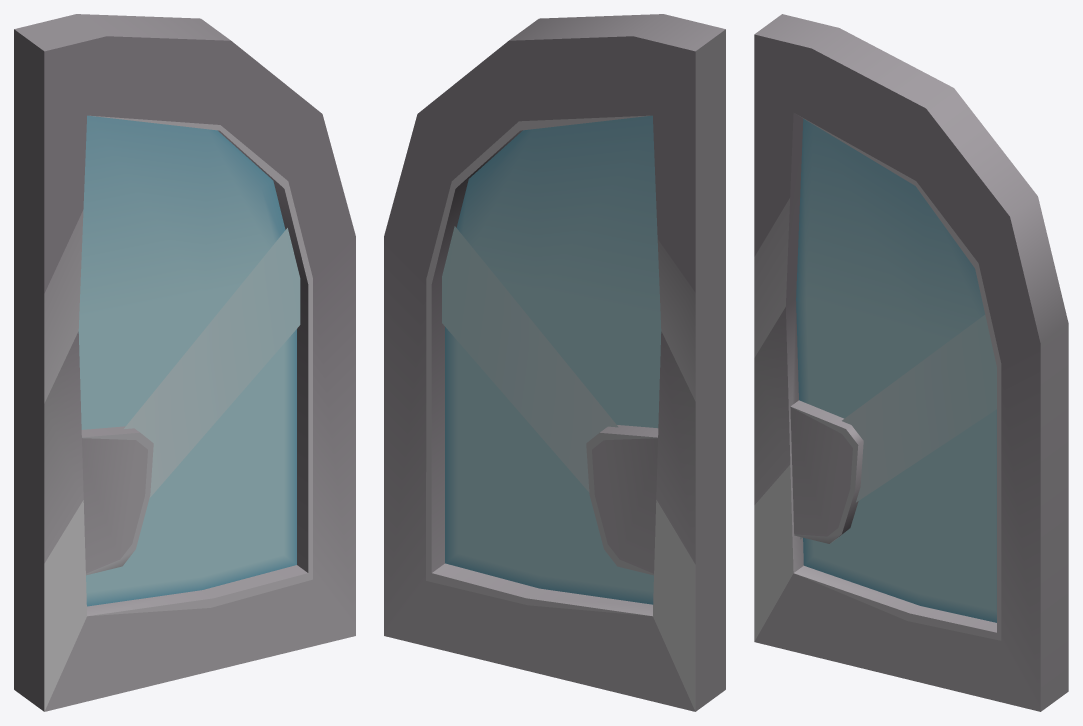
The model's file is ClothingDoor.glb.
The picture shows the model from 3 angles, left to right: view 1: azimuth 30°, elevation 25°; view 2: azimuth 150°, elevation 25°; view 3: azimuth 330°, elevation 25°; orthographic projection. The views are drawn at different scales.
Parts seen in each view (by area): view 1: ClothingDoor; view 2: ClothingDoor; view 3: ClothingDoor.
Boxes of the visible parts, box(x1,y1,x2,y2) form: ClothingDoor: box(14, 14, 355, 711); ClothingDoor: box(384, 14, 725, 711); ClothingDoor: box(754, 14, 1068, 711).
Bounding box in the file's own units: 0.8949 × 1.81 × 0.1512.
